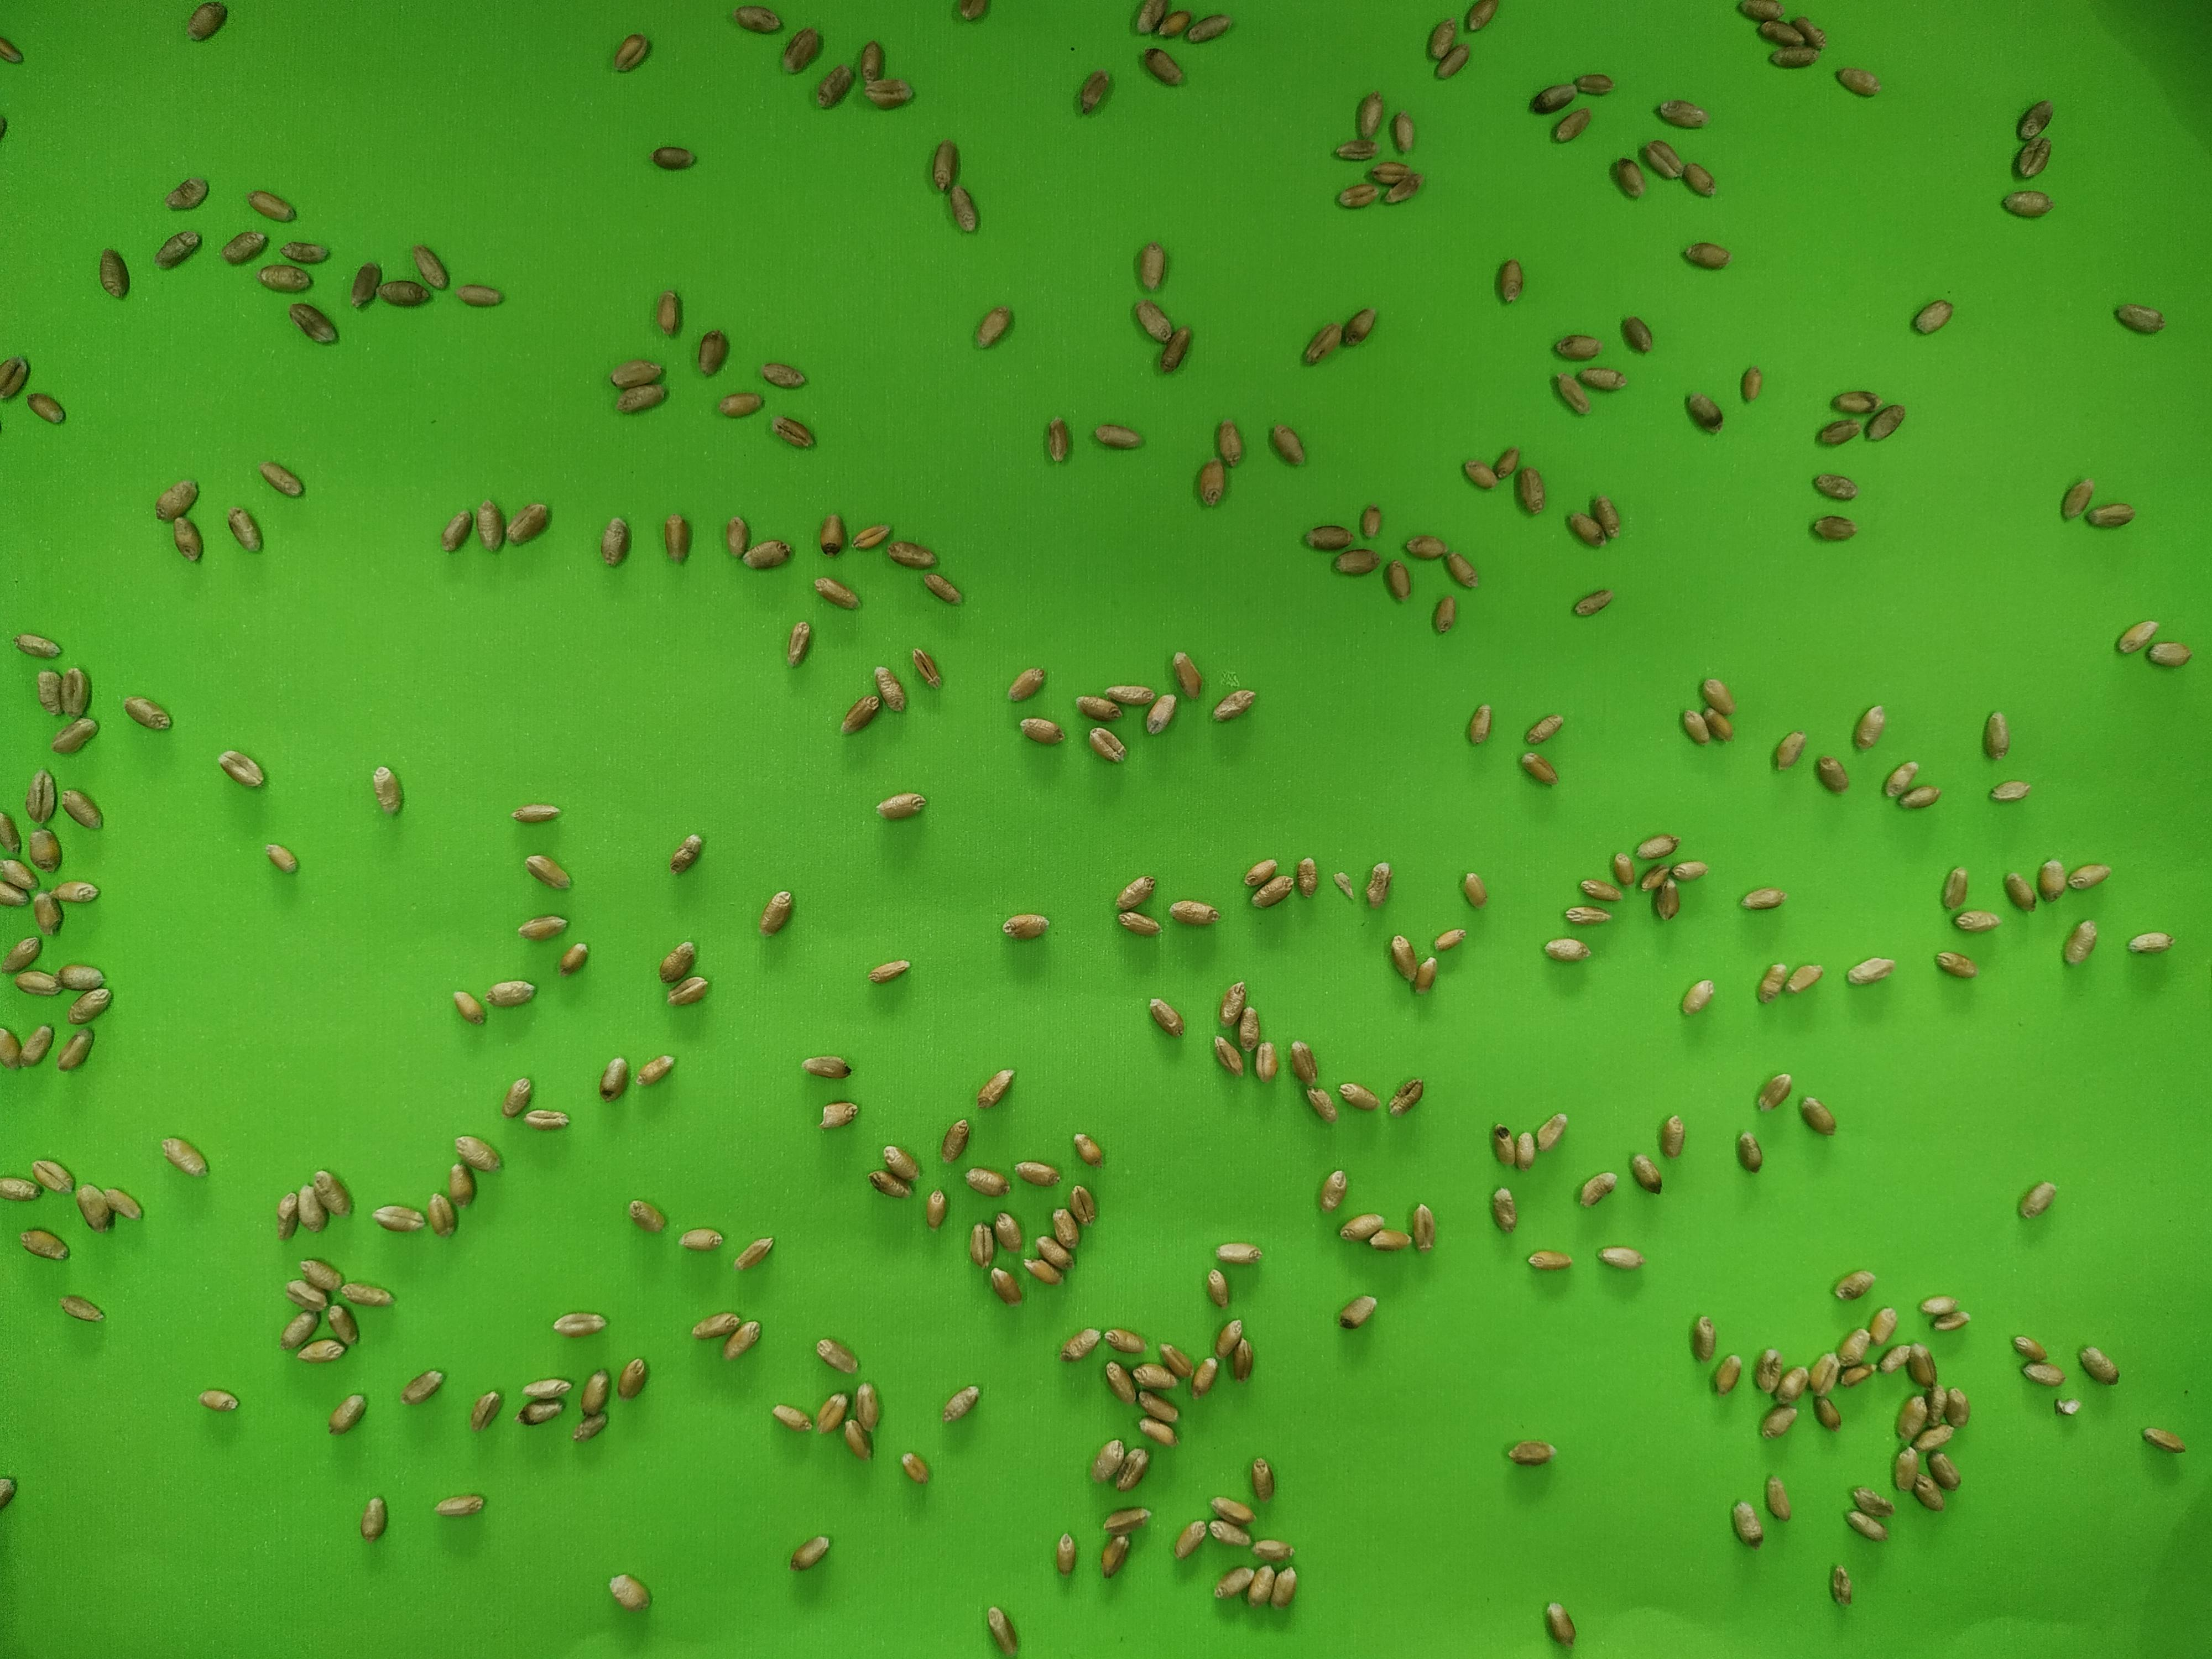bueno: (289, 295, 333, 347), (219, 225, 272, 268), (608, 28, 650, 80), (658, 509, 695, 568), (606, 356, 665, 392), (808, 1335, 862, 1375), (1040, 411, 1076, 469), (474, 493, 507, 556), (327, 1391, 373, 1436), (972, 303, 1015, 350), (1080, 723, 1129, 765), (441, 1161, 481, 1211), (650, 282, 683, 343), (214, 751, 268, 788), (1315, 1166, 1352, 1220), (1012, 713, 1066, 749), (1134, 688, 1179, 732), (1801, 1352, 1844, 1398), (1247, 871, 1292, 915), (608, 1572, 653, 1615), (162, 1134, 207, 1178), (1383, 1077, 1430, 1119), (1264, 420, 1306, 467), (1143, 997, 1190, 1039), (225, 505, 266, 552), (1608, 155, 1649, 202), (1515, 748, 1564, 788), (1111, 871, 1160, 911), (1832, 59, 1881, 99), (1979, 708, 2013, 763), (695, 324, 730, 380), (1552, 366, 1590, 416), (808, 572, 859, 610), (960, 1164, 1010, 1202), (813, 1094, 864, 1133), (815, 505, 852, 558), (662, 972, 714, 1009), (7, 629, 64, 662), (1381, 551, 1414, 608), (1998, 186, 2055, 220), (266, 1188, 300, 1246), (1139, 42, 1181, 87), (665, 831, 707, 877), (322, 1297, 362, 1344), (1637, 138, 1684, 178), (1423, 14, 1463, 61), (98, 1183, 145, 1223), (1209, 1032, 1249, 1079), (1386, 105, 1421, 159), (1514, 462, 1548, 516), (597, 1049, 632, 1103), (1202, 1516, 1256, 1551), (258, 458, 307, 497), (169, 514, 207, 563), (1336, 1208, 1385, 1246), (780, 26, 819, 75), (1155, 322, 1193, 371), (1101, 1358, 1139, 1406), (989, 1206, 1028, 1255), (1618, 312, 1656, 361), (249, 263, 308, 295), (1930, 946, 1980, 983), (1000, 908, 1050, 945), (768, 413, 819, 450), (611, 380, 667, 413), (1761, 1471, 1794, 1527), (348, 256, 381, 312), (1939, 859, 1972, 915), (1383, 166, 1425, 209), (1130, 298, 1174, 340), (1195, 453, 1230, 505), (1679, 237, 1731, 272), (242, 188, 294, 223), (0, 932, 44, 974), (183, 0, 226, 42), (716, 1319, 761, 1359), (813, 64, 853, 110), (2012, 132, 2052, 178), (841, 692, 881, 737), (54, 711, 99, 751), (838, 1419, 878, 1464), (789, 1532, 834, 1572), (570, 1405, 610, 1450), (930, 132, 960, 193), (338, 1277, 399, 1307), (1076, 66, 1115, 113), (1771, 1363, 1810, 1410), (56, 1028, 94, 1075), (1118, 1443, 1151, 1497), (1224, 1335, 1258, 1389), (1183, 10, 1237, 44), (1136, 239, 1169, 293), (357, 1492, 390, 1546), (578, 1364, 611, 1419), (2141, 636, 2195, 669), (939, 1114, 972, 1168), (1503, 1436, 1557, 1469), (946, 186, 982, 235), (94, 249, 131, 298), (1728, 1499, 1764, 1547), (613, 1354, 650, 1403), (368, 763, 402, 814), (862, 75, 913, 110), (26, 1159, 77, 1194), (2017, 1356, 2067, 1391), (1212, 416, 1247, 467), (0, 350, 31, 406), (1402, 951, 1444, 993), (974, 1068, 1015, 1110), (1757, 1398, 1799, 1439), (855, 33, 887, 89), (2078, 1344, 2120, 1385), (456, 1136, 500, 1176), (871, 667, 911, 711), (1170, 1518, 1211, 1561), (1005, 662, 1049, 702), (984, 1263, 1024, 1307), (624, 1195, 667, 1236), (1035, 1230, 1075, 1274), (845, 1382, 883, 1427), (937, 1384, 982, 1422), (1059, 1324, 1104, 1363), (1625, 1148, 1663, 1194), (1303, 1082, 1341, 1127), (16, 1023, 54, 1068), (1165, 896, 1217, 929), (521, 854, 573, 887), (2036, 852, 2069, 904), (1521, 1244, 1573, 1277), (1291, 850, 1324, 903), (1298, 326, 1345, 362), (744, 537, 791, 573), (1566, 511, 1613, 547), (815, 1389, 852, 1436), (1103, 1500, 1150, 1537), (423, 1190, 460, 1237), (19, 1227, 66, 1263), (1674, 160, 1721, 197), (1851, 702, 1888, 749), (26, 767, 56, 824), (1247, 1450, 1277, 1507), (1688, 1309, 1717, 1366), (1050, 1527, 1080, 1584), (296, 1256, 345, 1291), (1578, 361, 1627, 396), (1207, 685, 1256, 720), (54, 1291, 103, 1326), (761, 887, 796, 936), (507, 502, 556, 537), (1543, 1598, 1578, 1647), (916, 570, 965, 605), (881, 538, 935, 570), (1244, 1534, 1298, 1565), (1651, 98, 1705, 129), (1362, 859, 1393, 913), (481, 978, 535, 1009), (754, 361, 808, 392), (784, 617, 815, 671), (502, 1070, 533, 1124), (2085, 500, 2139, 532), (1089, 1439, 1129, 1481), (1696, 674, 1737, 716), (1440, 549, 1480, 591), (409, 246, 451, 286), (2017, 96, 2057, 138), (1531, 1112, 1573, 1152), (1683, 390, 1724, 430), (874, 789, 925, 823), (1134, 1389, 1184, 1422), (1399, 532, 1449, 565), (648, 139, 698, 173), (2113, 301, 2163, 335), (719, 511, 752, 561), (1287, 1037, 1320, 1087), (1827, 1328, 1871, 1366), (1923, 1450, 1966, 1488), (894, 1446, 932, 1490), (660, 939, 698, 983), (1797, 1093, 1836, 1136), (2060, 918, 2097, 964), (1648, 878, 1684, 924), (56, 669, 92, 714), (1771, 727, 1808, 772), (2141, 1422, 2186, 1459), (467, 1387, 503, 1432), (2113, 619, 2158, 655), (23, 389, 68, 425), (728, 3, 784, 33), (601, 514, 631, 570), (512, 1398, 568, 1427), (1211, 1565, 1258, 1600), (1211, 1316, 1245, 1363), (1846, 951, 1893, 986), (1266, 1561, 1301, 1608), (1494, 254, 1526, 307), (1487, 1180, 1519, 1232), (1386, 927, 1418, 979), (1710, 1352, 1745, 1399), (1097, 1528, 1132, 1575), (1909, 298, 1956, 333), (552, 1307, 601, 1340), (1940, 1384, 1973, 1432), (1092, 420, 1141, 453), (1332, 178, 1381, 211), (439, 507, 472, 556), (122, 697, 171, 730), (1552, 329, 1601, 362), (1677, 976, 1717, 1016), (73, 1187, 111, 1229), (157, 479, 199, 518), (449, 986, 488, 1028), (402, 1364, 441, 1406), (1813, 753, 1851, 795), (1756, 1070, 1794, 1112), (798, 1051, 852, 1080), (1907, 1338, 1937, 1392), (517, 1105, 571, 1134), (1071, 687, 1115, 723), (66, 983, 110, 1019), (1844, 1506, 1888, 1542), (1136, 1413, 1179, 1450), (768, 1399, 812, 1436), (526, 1373, 577, 1405), (1244, 1560, 1275, 1610), (714, 387, 765, 418), (1426, 592, 1461, 638), (909, 645, 944, 690), (1463, 701, 1498, 746), (1435, 40, 1470, 85), (634, 1053, 679, 1087), (869, 1166, 914, 1201), (1677, 702, 1712, 748), (164, 178, 209, 213), (1527, 82, 1575, 115), (1332, 1297, 1379, 1330), (1548, 110, 1595, 143), (1811, 511, 1858, 544), (1329, 547, 1381, 577), (517, 911, 570, 941), (0, 852, 40, 890), (1129, 0, 1167, 40), (1879, 760, 1918, 800), (2017, 1178, 2055, 1218), (279, 1310, 319, 1349), (61, 788, 99, 828), (2000, 870, 2038, 910), (307, 1180, 355, 1211), (1357, 87, 1388, 136), (1897, 1391, 1928, 1439), (33, 889, 64, 938), (1914, 1419, 1956, 1455), (1895, 781, 1944, 812), (1594, 1243, 1642, 1274), (1575, 1169, 1616, 1206), (157, 230, 199, 267), (1489, 443, 1531, 479), (1045, 1204, 1080, 1248), (284, 1277, 327, 1312), (1205, 1499, 1259, 1527), (1893, 1441, 1921, 1495), (986, 1608, 1019, 1654), (1521, 713, 1566, 746), (1458, 866, 1491, 911), (1813, 471, 1858, 504), (28, 826, 61, 871), (1170, 648, 1200, 699), (1217, 981, 1247, 1032), (1827, 387, 1878, 416), (435, 1492, 486, 1521), (1301, 521, 1352, 551), (1632, 830, 1683, 859), (688, 1310, 738, 1340), (1865, 1305, 1897, 1352), (878, 1147, 925, 1178), (1202, 1263, 1233, 1310), (733, 1237, 780, 1269), (674, 1225, 721, 1256), (1014, 1157, 1061, 1188), (1103, 1324, 1150, 1356), (1251, 1039, 1282, 1086), (1588, 493, 1625, 533), (1153, 3, 1193, 40), (1338, 308, 1378, 345), (1132, 1358, 1172, 1394), (1460, 455, 1500, 491), (1867, 401, 1907, 437), (376, 279, 428, 307), (1069, 1129, 1104, 1171), (2123, 927, 2172, 957), (52, 964, 101, 993), (1825, 1561, 1855, 1610), (920, 1187, 949, 1236), (1332, 132, 1381, 162), (2062, 474, 2095, 518), (1064, 1182, 1097, 1225), (1571, 586, 1615, 619), (298, 1185, 329, 1230), (1986, 775, 2031, 807), (1756, 958, 1787, 1004), (1768, 40, 1813, 71), (510, 798, 561, 826), (455, 282, 505, 310), (1569, 70, 1620, 98), (261, 840, 300, 877), (293, 1338, 350, 1363), (1489, 1126, 1524, 1166), (554, 941, 594, 976), (1740, 884, 1787, 913), (1214, 1237, 1261, 1267), (1541, 936, 1588, 965), (866, 955, 913, 985), (1113, 910, 1160, 939), (1733, 362, 1766, 404), (1918, 1290, 1959, 1323), (373, 1204, 425, 1230), (1578, 873, 1622, 904), (1238, 856, 1282, 887), (1731, 1129, 1763, 1173), (1336, 1082, 1379, 1114), (49, 878, 101, 904), (35, 664, 63, 713), (2066, 861, 2114, 889), (846, 521, 895, 549), (1233, 1006, 1263, 1051), (1813, 418, 1858, 448), (1190, 1356, 1219, 1401), (2008, 1331, 2047, 1366), (1703, 704, 1738, 742), (968, 1218, 995, 1269), (1658, 1108, 1684, 1159), (1364, 155, 1406, 186), (1606, 847, 1637, 889), (1663, 856, 1710, 884), (1850, 1485, 1892, 1516), (1811, 1392, 1843, 1434), (1916, 1471, 1947, 1513), (1832, 1270, 1874, 1302), (195, 1385, 239, 1415), (0, 1175, 44, 1204), (1782, 17, 1831, 44), (10, 971, 63, 995), (1409, 1197, 1433, 1249), (1839, 1361, 1876, 1396), (1158, 1340, 1193, 1377), (279, 239, 327, 265), (1465, 0, 1500, 37), (1754, 1344, 1782, 1389), (1923, 1309, 1973, 1333), (948, 0, 995, 26), (1951, 910, 1998, 936), (1357, 500, 1385, 544), (1785, 962, 1822, 995), (2, 1019, 23, 1077), (1731, 0, 1784, 23), (1514, 1127, 1540, 1173), (1362, 1229, 1409, 1253), (1637, 863, 1676, 892), (1428, 925, 1468, 953), (0, 810, 23, 859), (1026, 1255, 1062, 1284), (1564, 903, 1608, 927), (1878, 1345, 1914, 1373), (0, 884, 30, 910), (1165, 882, 1169, 884)
impureza: (1327, 861, 1359, 901), (2050, 1391, 2083, 1420)
